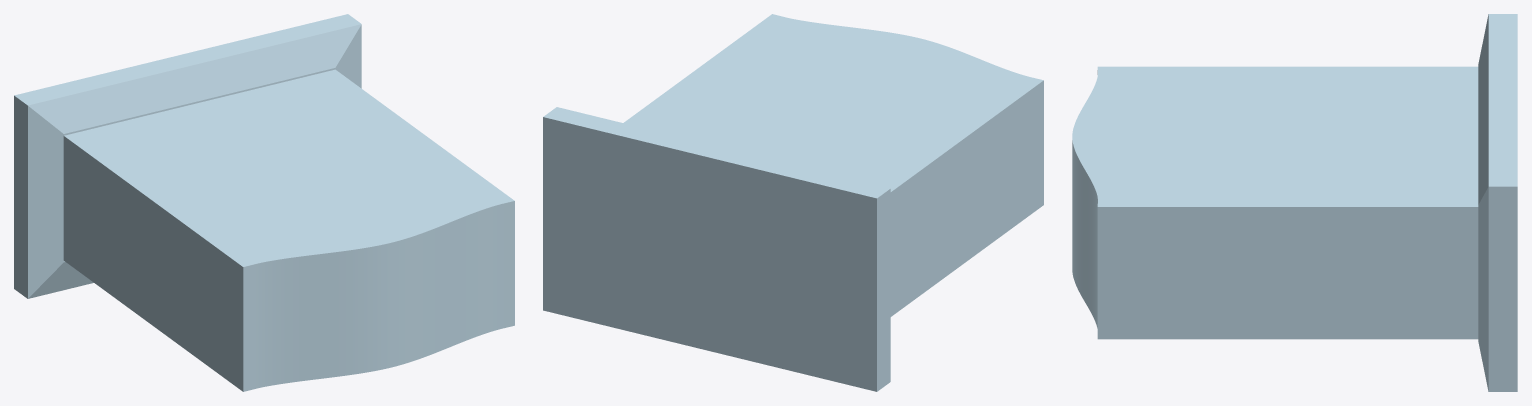
3 views of the same model, side by side, from view 1: azimuth 30°, elevation 25°; view 2: azimuth 150°, elevation 25°; view 3: azimuth 270°, elevation 25° (orthographic). The views are drawn at different scales.
Visible parts, largest first — view 1: PA-463-F_LOD0; view 2: PA-463-F_LOD0; view 3: PA-463-F_LOD0.
Part boxes in pixels (x1,y1,x2,y2): PA-463-F_LOD0: (14, 14, 514, 391); PA-463-F_LOD0: (543, 14, 1043, 391); PA-463-F_LOD0: (1072, 14, 1517, 391).
Size of what is drawn, in the model's own units: 71.12 by 39.37 by 77.47.
